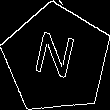N_S: (32, 30, 81, 88)
